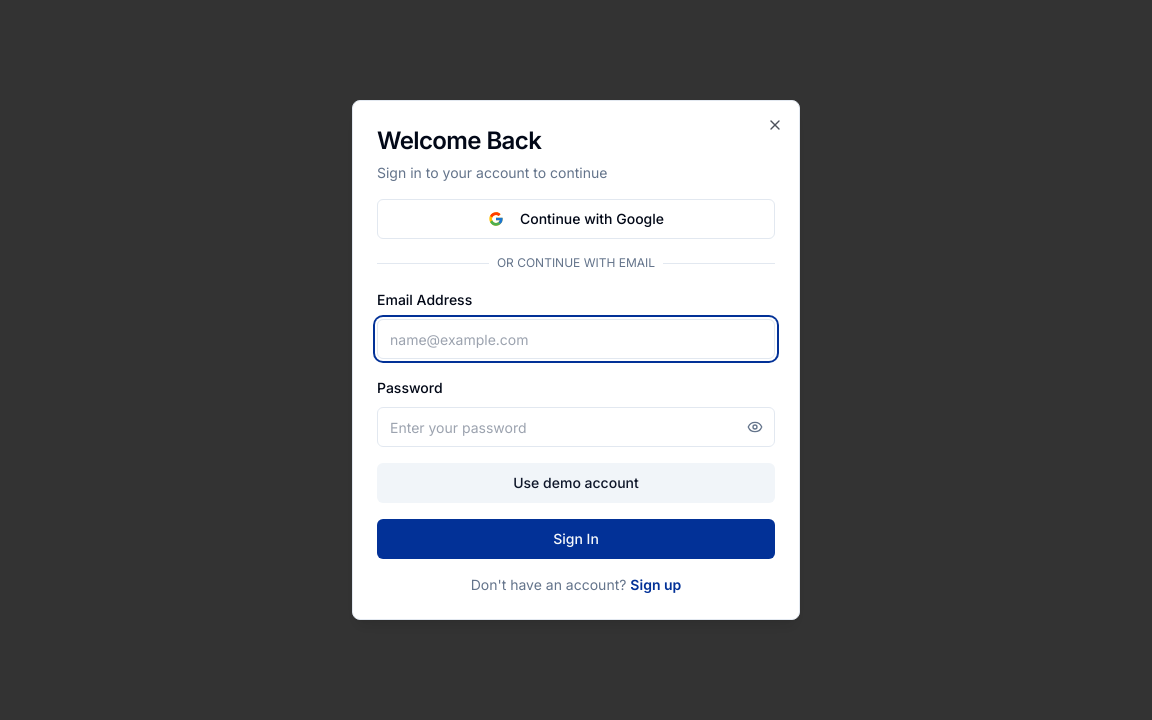
Test: AuthModals - Authentication › should handle login errors
This screenshot has width=1152, height=720.
Type "test@example.com" into the field labelled "Email Address" at (576, 339), box [377, 319, 775, 359]
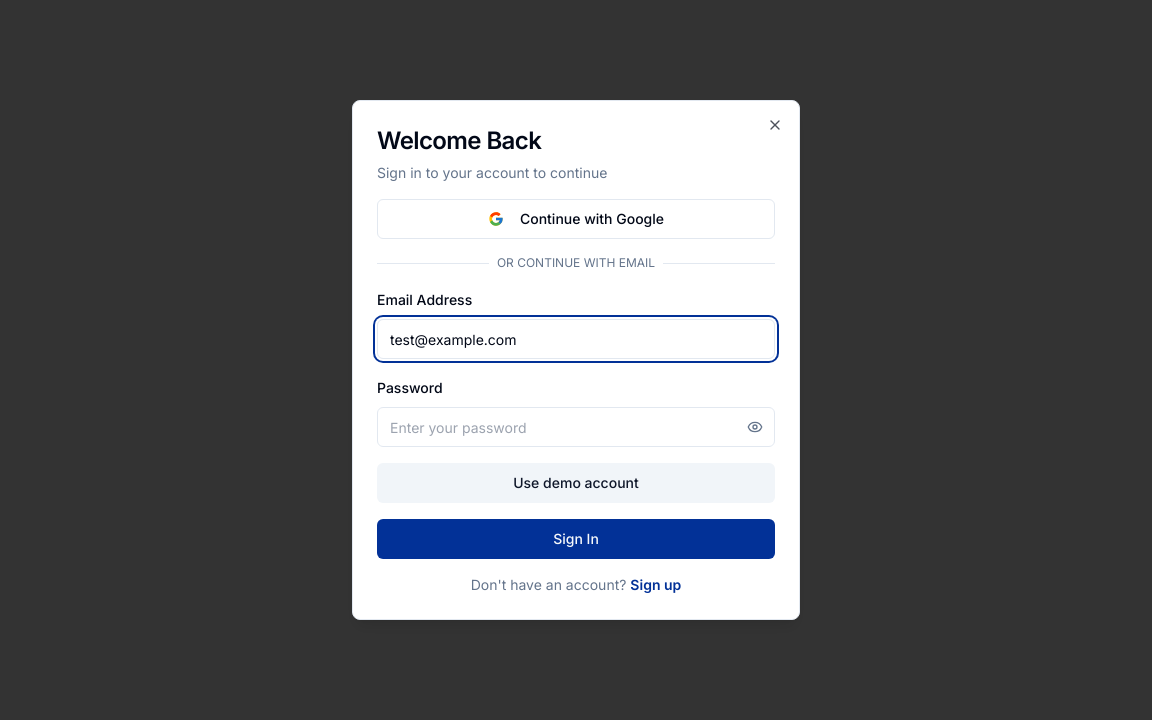
Type "wrongpassword" into the password field labelled "Password" at (576, 427), box [377, 407, 775, 447]
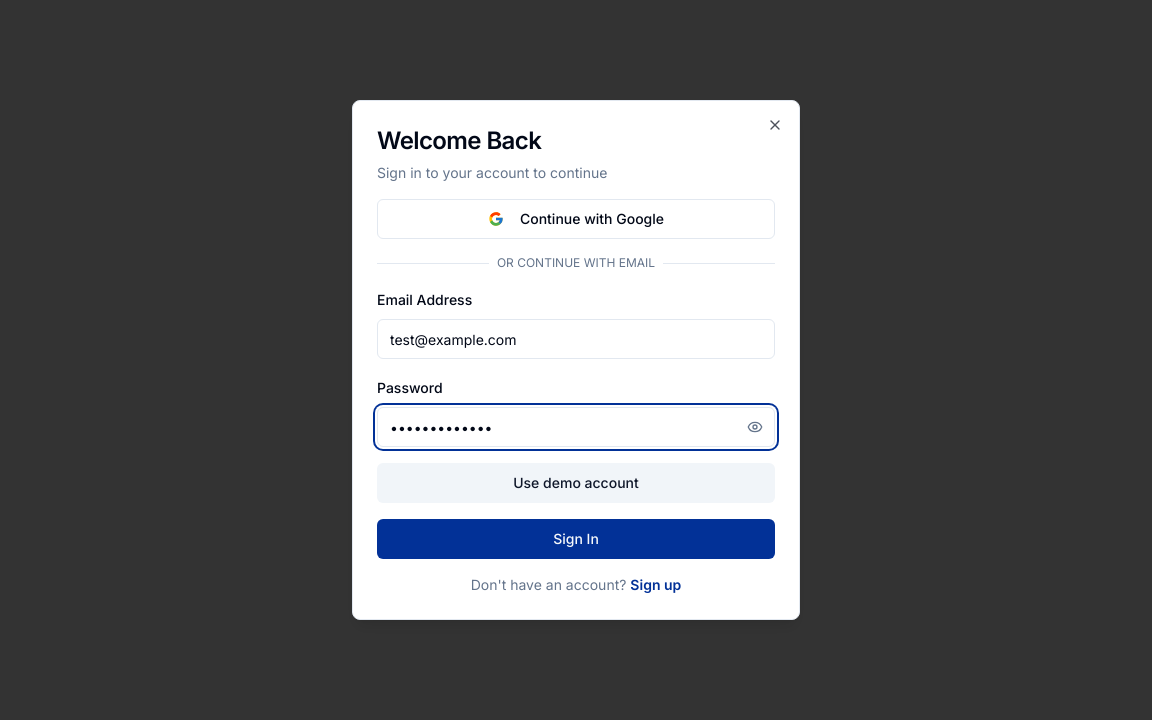
Click the button "Sign In" at (576, 539), box [377, 519, 775, 559]
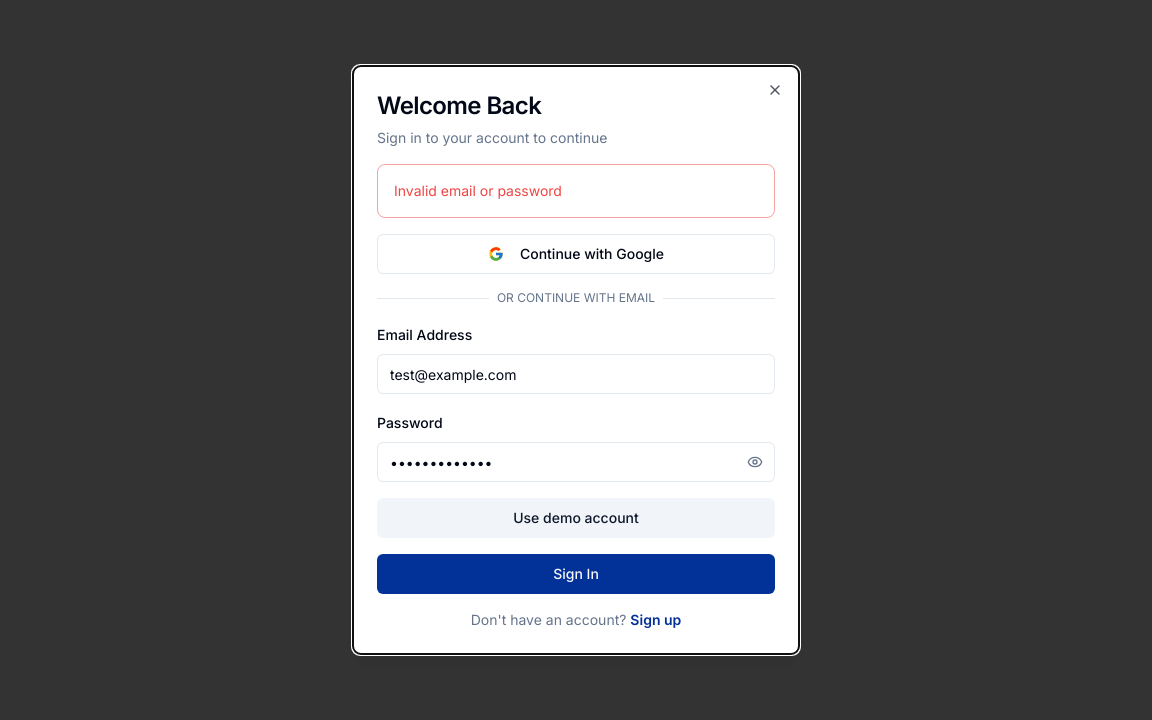
Expected: the text "Invalid email or password" is shown, [394, 182, 562, 199]
